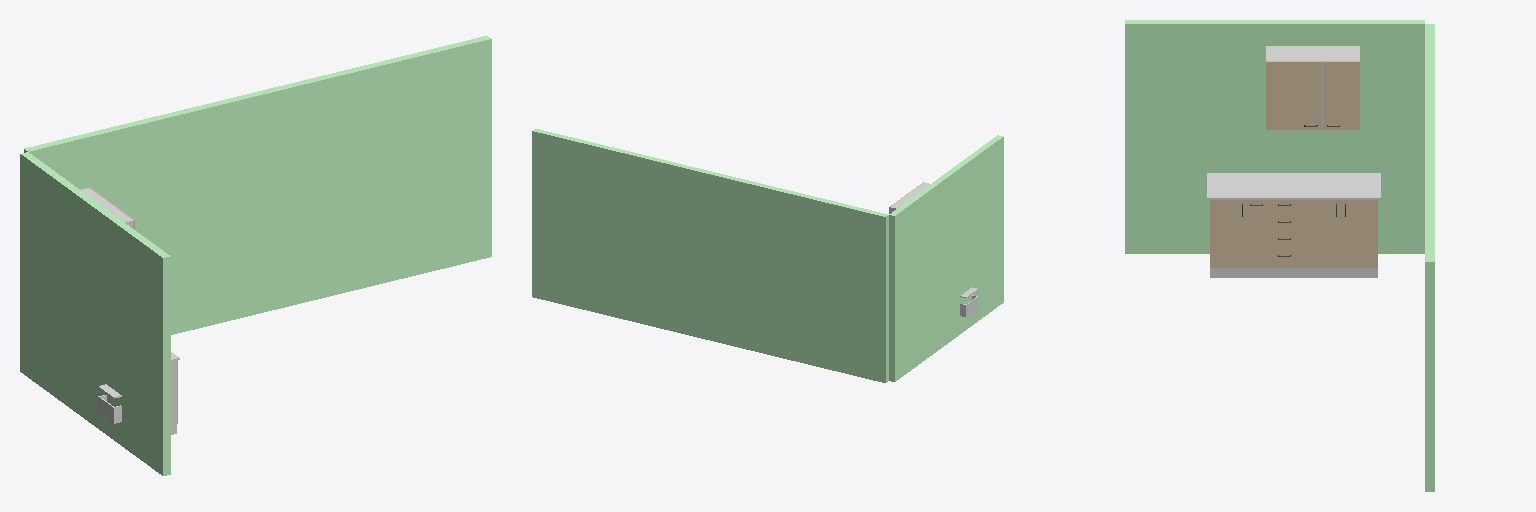
--- What the picture shows (computed from the rendered views, not written in the file) ---
3 views of the same robot in one strip: view 1: azimuth 30°, elevation 25°; view 2: azimuth 150°, elevation 25°; view 3: azimuth 270°, elevation 25° (orthographic).
Model clover_lab with 72 links and 71 joints (5 revolute, 7 prismatic, 59 fixed), rooted at world, posed all joints at 0.
Visible links, largest first — view 1: lab_left_wall, lab_back_wall; view 2: lab_left_wall, lab_back_wall; view 3: lab_back_wall, bc_frame_worktop, lab_left_wall, wall_cabinet_c1_door, base_cabinet_c4_door, wall_cabinet_c2_door, base_cabinet_c1_door, base_cabinet_c5_door, bc_frame_base_link, wc_frame_top_panel, base_cabinet_c2_pull_out_front_panel, base_cabinet_c3_r1_drawer_front_panel (+3 smaller).
Boxes of the visible links, x1,y1,x2,y2 form: lab_left_wall: (24,36,491,334); lab_back_wall: (20,152,170,475); lab_left_wall: (532,129,888,382); lab_back_wall: (889,135,1003,381); lab_back_wall: (1125,20,1424,253); bc_frame_worktop: (1207,173,1380,199); lab_left_wall: (1425,24,1434,491); wall_cabinet_c1_door: (1266,61,1321,129); base_cabinet_c4_door: (1303,200,1340,267); wall_cabinet_c2_door: (1323,61,1359,129); base_cabinet_c1_door: (1210,200,1246,267); base_cabinet_c5_door: (1341,200,1377,267); bc_frame_base_link: (1210,268,1377,277); wc_frame_top_panel: (1266,46,1359,61); base_cabinet_c2_pull_out_front_panel: (1247,200,1265,267); base_cabinet_c3_r1_drawer_front_panel: (1266,200,1302,216).
Bounding box of the posed robot: 6.21 × 3.3 × 2.7 m (x, y, z).
10 mesh visuals loaded from 1 distinct referenced files (1 binary STL).

The robot description file, URDF, robot "clover_lab":
<?xml version="1.0" ?>
<!-- =================================================================================== -->
<!-- |    This document was autogenerated by xacro from ../xacro/clover_lab.urdf.xacro | -->
<!-- |    EDITING THIS FILE BY HAND IS NOT RECOMMENDED                                 | -->
<!-- =================================================================================== -->
<robot name="clover_lab">
  <material name="White">
    <color rgba="0.9 0.9 0.9 1.0"/>
  </material>
  <material name="Glass">
    <color rgba="0.9 0.9 0.9 0.9"/>
  </material>
  <material name="Black">
    <color rgba="0.3 0.3 0.3 1.0"/>
  </material>
  <material name="Oak">
    <color rgba="0.89 0.81 0.69 1.0"/>
  </material>
  <material name="LightGreen">
    <color rgba="0.8 1 0.8 1.0"/>
  </material>
  <!-- Using meter, kg -->
  <!-- https://www.ikea.com.hk/en/products/kitchen-fixed-interiors/kitchen-fixed-interiors/maximera-art-80297276-->
  <link name="bc_frame_base_link">
    <visual>
      <origin xyz="0 0 0"/>
      <geometry>
        <box size="0.6 1.8 0.12"/>
      </geometry>
      <material name="White"/>
    </visual>
    <collision>
      <origin xyz="0 0 0"/>
      <geometry>
        <box size="0.6 1.8 0.12"/>
      </geometry>
    </collision>
    <inertial>
      <origin xyz="0 0 0"/>
      <mass value="20"/>
      <inertia ixx="5.424" ixy="0" ixz="0" iyy="0.624" iyz="0" izz="6.0"/>
    </inertial>
  </link>
  <link name="bc_frame_left_side_panel">
    <visual>
      <origin xyz="0 0 0"/>
      <geometry>
        <box size="0.6 0.016 0.8"/>
      </geometry>
      <material name="White"/>
    </visual>
    <collision>
      <origin xyz="0 0 0"/>
      <geometry>
        <box size="0.6 0.016 0.8"/>
      </geometry>
    </collision>
    <inertial>
      <origin xyz="0 0 0"/>
      <mass value="5"/>
      <inertia ixx="0.26677333333333336" ixy="0" ixz="0" iyy="0.4166666666666667" iyz="0" izz="0.15010666666666664"/>
    </inertial>
  </link>
  <joint name="bc_frame_left_side_panel_joint" type="fixed">
    <origin rpy="0 0 0" xyz="0 0.892 0.46"/>
    <parent link="bc_frame_base_link"/>
    <child link="bc_frame_left_side_panel"/>
  </joint>
  <link name="bc_frame_right_side_panel">
    <visual>
      <origin xyz="0 0 0"/>
      <geometry>
        <box size="0.6 0.016 0.8"/>
      </geometry>
      <material name="White"/>
    </visual>
    <collision>
      <origin xyz="0 0 0"/>
      <geometry>
        <box size="0.6 0.016 0.8"/>
      </geometry>
    </collision>
    <inertial>
      <origin xyz="0 0 0"/>
      <mass value="5"/>
      <inertia ixx="0.26677333333333336" ixy="0" ixz="0" iyy="0.4166666666666667" iyz="0" izz="0.15010666666666664"/>
    </inertial>
  </link>
  <joint name="bc_frame_right_side_panel_joint" type="fixed">
    <origin rpy="0 0 0" xyz="0 -0.892 0.46"/>
    <parent link="bc_frame_base_link"/>
    <child link="bc_frame_right_side_panel"/>
  </joint>
  <link name="bc_frame_back_panel">
    <visual>
      <origin xyz="0 0 0"/>
      <geometry>
        <box size="0.016 1.8 0.8"/>
      </geometry>
      <material name="White"/>
    </visual>
    <collision>
      <origin xyz="0 0 0"/>
      <geometry>
        <box size="0.016 1.8 0.8"/>
      </geometry>
    </collision>
    <inertial>
      <origin xyz="0 0 0"/>
      <mass value="20"/>
      <inertia ixx="6.466666666666668" ixy="0" ixz="0" iyy="1.0670933333333334" iyz="0" izz="5.400426666666667"/>
    </inertial>
  </link>
  <joint name="bc_frame_back_panel_joint" type="fixed">
    <origin rpy="0 0 0" xyz="-0.292 0 0.46"/>
    <parent link="bc_frame_base_link"/>
    <child link="bc_frame_back_panel"/>
  </joint>
  <link name="bc_frame_worktop">
    <visual>
      <origin xyz="0 0 0"/>
      <geometry>
        <box size="0.635 1.86 0.028"/>
      </geometry>
      <material name="White"/>
    </visual>
    <collision>
      <origin xyz="0 0 0"/>
      <geometry>
        <box size="0.635 1.86 0.028"/>
      </geometry>
    </collision>
    <inertial>
      <origin xyz="0 0 0"/>
      <mass value="20.65"/>
      <inertia ixx="5.954744133333334" ixy="0" ixz="0" iyy="0.6952321541666667" iyz="0" izz="6.647278020833333"/>
    </inertial>
  </link>
  <joint name="bc_frame_worktop_joint" type="fixed">
    <origin xyz="0 0 0.874"/>
    <parent link="bc_frame_base_link"/>
    <child link="bc_frame_worktop"/>
  </joint>
  <link name="bc_frame_c1_v_shelf">
    <visual>
      <origin xyz="0 0 0"/>
      <geometry>
        <box size="0.6 0.04 0.8"/>
      </geometry>
      <material name="White"/>
    </visual>
    <collision>
      <origin xyz="0 0 0"/>
      <geometry>
        <box size="0.6 0.04 0.8"/>
      </geometry>
    </collision>
    <inertial>
      <origin xyz="0 0 0"/>
      <mass value="10"/>
      <inertia ixx="0.5346666666666668" ixy="0" ixz="0" iyy="0.8333333333333334" iyz="0" izz="0.3013333333333333"/>
    </inertial>
  </link>
  <joint name="bc_frame_c1_v_shelf_joint" type="fixed">
    <origin xyz="0 -0.5 0.46"/>
    <parent link="bc_frame_base_link"/>
    <child link="bc_frame_c1_v_shelf"/>
  </joint>
  <link name="bc_frame_c2_v_shelf">
    <visual>
      <origin xyz="0 0 0"/>
      <geometry>
        <box size="0.6 0.04 0.8"/>
      </geometry>
      <material name="White"/>
    </visual>
    <collision>
      <origin xyz="0 0 0"/>
      <geometry>
        <box size="0.6 0.04 0.8"/>
      </geometry>
    </collision>
    <inertial>
      <origin xyz="0 0 0"/>
      <mass value="10"/>
      <inertia ixx="0.5346666666666668" ixy="0" ixz="0" iyy="0.8333333333333334" iyz="0" izz="0.3013333333333333"/>
    </inertial>
  </link>
  <joint name="bc_frame_c2_v_shelf_joint" type="fixed">
    <origin xyz="0 -0.29999999999999993 0.46"/>
    <parent link="bc_frame_base_link"/>
    <child link="bc_frame_c2_v_shelf"/>
  </joint>
  <link name="bc_frame_c3_v_shelf">
    <visual>
      <origin xyz="0 0 0"/>
      <geometry>
        <box size="0.6 0.04 0.8"/>
      </geometry>
      <material name="White"/>
    </visual>
    <collision>
      <origin xyz="0 0 0"/>
      <geometry>
        <box size="0.6 0.04 0.8"/>
      </geometry>
    </collision>
    <inertial>
      <origin xyz="0 0 0"/>
      <mass value="10"/>
      <inertia ixx="0.5346666666666668" ixy="0" ixz="0" iyy="0.8333333333333334" iyz="0" izz="0.3013333333333333"/>
    </inertial>
  </link>
  <joint name="bc_frame_c3_v_shelf_joint" type="fixed">
    <origin xyz="0 0.09999999999999998 0.46"/>
    <parent link="bc_frame_base_link"/>
    <child link="bc_frame_c3_v_shelf"/>
  </joint>
  <link name="bc_frame_h1_shelf">
    <visual>
      <origin xyz="0 0 0"/>
      <geometry>
        <box size="0.6 0.8 0.02"/>
      </geometry>
      <material name="White"/>
    </visual>
    <collision>
      <origin xyz="0 0 0"/>
      <geometry>
        <box size="0.6 0.8 0.02"/>
      </geometry>
    </collision>
    <inertial>
      <origin xyz="0 0 0"/>
      <mass value="10"/>
      <inertia ixx="0.5336666666666667" ixy="0" ixz="0" iyy="0.30033333333333334" iyz="0" izz="0.8333333333333334"/>
    </inertial>
  </link>
  <joint name="bc_frame_h1_shelf_joint" type="fixed">
    <origin xyz="0 0.5000000000000001 0.6100000000000001"/>
    <parent link="bc_frame_base_link"/>
    <child link="bc_frame_h1_shelf"/>
  </joint>
  <link name="bc_frame_h2_shelf">
    <visual>
      <origin xyz="0 0 0"/>
      <geometry>
        <box size="0.6 0.8 0.02"/>
      </geometry>
      <material name="White"/>
    </visual>
    <collision>
      <origin xyz="0 0 0"/>
      <geometry>
        <box size="0.6 0.8 0.02"/>
      </geometry>
    </collision>
    <inertial>
      <origin xyz="0 0 0"/>
      <mass value="10"/>
      <inertia ixx="0.5336666666666667" ixy="0" ixz="0" iyy="0.30033333333333334" iyz="0" izz="0.8333333333333334"/>
    </inertial>
  </link>
  <joint name="bc_frame_h2_shelf_joint" type="fixed">
    <origin xyz="0 0.5000000000000001 0.39000000000000007"/>
    <parent link="bc_frame_base_link"/>
    <child link="bc_frame_h2_shelf"/>
  </joint>
  <link name="base_cabinet_c1_door">
    <visual>
      <origin xyz="0 0.198 0"/>
      <geometry>
        <box size="0.016 0.396 0.796"/>
      </geometry>
      <material name="Oak"/>
    </visual>
    <collision>
      <origin xyz="0 0.198 0"/>
      <geometry>
        <box size="0.016 0.396 0.796"/>
      </geometry>
    </collision>
    <inertial>
      <origin xyz="0 0.198 0"/>
      <mass value="3.31"/>
      <inertia ixx="0.21802749333333335" ixy="0" ixz="0" iyy="0.1748430266666667" iyz="0" izz="0.04332569333333334"/>
    </inertial>
  </link>
  <joint name="base_cabinet_c1_door_joint" type="revolute">
    <parent link="bc_frame_base_link"/>
    <child link="base_cabinet_c1_door"/>
    <limit effort="10" lower="0" upper="1.5707963267948966" velocity="1"/>
    <dynamics damping="100" friction="0.1"/>
    <origin xyz="0.308 -0.9 0.46"/>
    <axis xyz="0 0 -1"/>
  </joint>
  <link name="base_cabinet_c1_door_handle_link">
    <visual>
      <origin rpy="0 0 0" xyz="0 0 0"/>
      <geometry>
        <mesh filename="package://clover_lab/meshes/handle.stl"/>
      </geometry>
      <material name="Black"/>
    </visual>
    <collision>
      <origin rpy="0 0 0" xyz="0 0 0"/>
      <geometry>
        <mesh filename="package://clover_lab/meshes/handle.stl"/>
      </geometry>
    </collision>
    <inertial>
      <mass value="0.09"/>
      <origin xyz="0 0 0"/>
      <inertia ixx="0.000211711" ixy="0" ixz="0" iyy="6.3764e-05" iyz="0" izz="0.000274426"/>
    </inertial>
  </link>
  <joint name="base_cabinet_c1_door_handle_joint" type="fixed">
    <parent link="base_cabinet_c1_door"/>
    <child link="base_cabinet_c1_door_handle_link"/>
    <origin rpy="1.5707963267948966 0 0" xyz="0.008 0.35 0.28"/>
  </joint>
  <link name="base_cabinet_c1_r1_drawer_front_panel">
    <visual>
      <origin xyz="0 0 0"/>
      <geometry>
        <box size="0.016 0.35 0.06"/>
      </geometry>
      <material name="White"/>
    </visual>
    <collision>
      <origin xyz="0 0 0"/>
      <geometry>
        <box size="0.016 0.35 0.06"/>
      </geometry>
    </collision>
    <inertial>
      <origin xyz="0 0 0"/>
      <mass value="5"/>
      <inertia ixx="0.05254166666666666" ixy="0" ixz="0" iyy="0.0016066666666666666" iyz="0" izz="0.05114833333333333"/>
    </inertial>
  </link>
  <joint name="base_cabinet_c1_r1_drawer_front_panel_joint" type="prismatic">
    <parent link="bc_frame_base_link"/>
    <child link="base_cabinet_c1_r1_drawer_front_panel"/>
    <origin xyz="0.02899999999999997 -0.7                                 0.5800000000000001"/>
    <limit effort="10" lower="0" upper="0.542" velocity="1"/>
    <axis xyz="1 0 0"/>
  </joint>
  <link name="base_cabinet_c1_r1_drawer_bottom_panel">
    <visual>
      <origin xyz="0 0 0"/>
      <geometry>
        <box size="0.542 0.35 0.016"/>
      </geometry>
      <material name="White"/>
    </visual>
    <collision>
      <origin xyz="0 0 0"/>
      <geometry>
        <box size="0.542 0.35 0.016"/>
      </geometry>
    </collision>
    <inertial>
      <origin xyz="0 0 0"/>
      <mass value="5"/>
      <inertia ixx="0.05114833333333333" ixy="0" ixz="0" iyy="0.12250833333333333" iyz="0" izz="0.17344333333333337"/>
    </inertial>
  </link>
  <joint name="base_cabinet_c1_r1_drawer_bottom_panel_joint" type="fixed">
    <parent link="base_cabinet_c1_r1_drawer_front_panel"/>
    <child link="base_cabinet_c1_r1_drawer_bottom_panel"/>
    <origin xyz="-0.263 0 -0.022"/>
  </joint>
  <link name="base_cabinet_c1_r2_drawer_front_panel">
    <visual>
      <origin xyz="0 0 0"/>
      <geometry>
        <box size="0.016 0.35 0.2"/>
      </geometry>
      <material name="White"/>
    </visual>
    <collision>
      <origin xyz="0 0 0"/>
      <geometry>
        <box size="0.016 0.35 0.2"/>
      </geometry>
    </collision>
    <inertial>
      <origin xyz="0 0 0"/>
      <mass value="5"/>
      <inertia ixx="0.06770833333333333" ixy="0" ixz="0" iyy="0.016773333333333338" iyz="0" izz="0.05114833333333333"/>
    </inertial>
  </link>
  <joint name="base_cabinet_c1_r2_drawer_front_panel_joint" type="prismatic">
    <parent link="bc_frame_base_link"/>
    <child link="base_cabinet_c1_r2_drawer_front_panel"/>
    <origin xyz="0.02899999999999997 -0.7                                 0.33999999999999997"/>
    <limit effort="10" lower="0" upper="0.542" velocity="1"/>
    <axis xyz="1 0 0"/>
  </joint>
  <link name="base_cabinet_c1_r2_drawer_bottom_panel">
    <visual>
      <origin xyz="0 0 0"/>
      <geometry>
        <box size="0.542 0.35 0.016"/>
      </geometry>
      <material name="White"/>
    </visual>
    <collision>
      <origin xyz="0 0 0"/>
      <geometry>
        <box size="0.542 0.35 0.016"/>
      </geometry>
    </collision>
    <inertial>
      <origin xyz="0 0 0"/>
      <mass value="5"/>
      <inertia ixx="0.05114833333333333" ixy="0" ixz="0" iyy="0.12250833333333333" iyz="0" izz="0.17344333333333337"/>
    </inertial>
  </link>
  <joint name="base_cabinet_c1_r2_drawer_bottom_panel_joint" type="fixed">
    <parent link="base_cabinet_c1_r2_drawer_front_panel"/>
    <child link="base_cabinet_c1_r2_drawer_bottom_panel"/>
    <origin xyz="-0.263 0 -0.092"/>
  </joint>
  <link name="base_cabinet_c1_r2_drawer_left_side_panel">
    <visual>
      <origin xyz="0 0 0"/>
      <geometry>
        <box size="0.542 0.016 0.2"/>
      </geometry>
      <material name="Glass"/>
    </visual>
    <collision>
      <origin xyz="0 0 0"/>
      <geometry>
        <box size="0.542 0.016 0.2"/>
      </geometry>
    </collision>
    <inertial>
      <origin xyz="0 0 0"/>
      <mass value="1"/>
      <inertia ixx="0.0033546666666666673" ixy="0" ixz="0" iyy="0.02781366666666667" iyz="0" izz="0.024501666666666668"/>
    </inertial>
  </link>
  <joint name="base_cabinet_c1_r2_drawer_left_side_panel_joint" type="fixed">
    <parent link="base_cabinet_c1_r2_drawer_bottom_panel"/>
    <child link="base_cabinet_c1_r2_drawer_left_side_panel"/>
    <origin xyz="0 0.16699999999999998 0.092"/>
  </joint>
  <link name="base_cabinet_c1_r2_drawer_right_side_panel">
    <visual>
      <origin xyz="0 0 0"/>
      <geometry>
        <box size="0.542 0.016 0.2"/>
      </geometry>
      <material name="Glass"/>
    </visual>
    <collision>
      <origin xyz="0 0 0"/>
      <geometry>
        <box size="0.542 0.016 0.2"/>
      </geometry>
    </collision>
    <inertial>
      <origin xyz="0 0 0"/>
      <mass value="1"/>
      <inertia ixx="0.0033546666666666673" ixy="0" ixz="0" iyy="0.02781366666666667" iyz="0" izz="0.024501666666666668"/>
    </inertial>
  </link>
  <joint name="base_cabinet_c1_r2_drawer_right_side_panel_joint" type="fixed">
    <parent link="base_cabinet_c1_r2_drawer_bottom_panel"/>
    <child link="base_cabinet_c1_r2_drawer_right_side_panel"/>
    <origin xyz="0 -0.16699999999999998 0.092"/>
  </joint>
  <link name="base_cabinet_c1_r2_drawer_back_panel">
    <visual>
      <origin xyz="0 0 0"/>
      <geometry>
        <box size="0.016 0.35 0.2"/>
      </geometry>
      <material name="White"/>
    </visual>
    <collision>
      <origin xyz="0 0 0"/>
      <geometry>
        <box size="0.016 0.35 0.2"/>
      </geometry>
    </collision>
    <inertial>
      <origin xyz="0 0 0"/>
      <mass value="2"/>
      <inertia ixx="0.02708333333333333" ixy="0" ixz="0" iyy="0.0067093333333333345" iyz="0" izz="0.020459333333333333"/>
    </inertial>
  </link>
  <joint name="base_cabinet_c1_r2_drawer_back_panel_joint" type="fixed">
    <parent link="base_cabinet_c1_r2_drawer_bottom_panel"/>
    <child link="base_cabinet_c1_r2_drawer_back_panel"/>
    <origin xyz="-0.263 0 0.092"/>
  </joint>
  <link name="base_cabinet_c2_pull_out_front_panel">
    <visual>
      <origin xyz="0 0 0"/>
      <geometry>
        <box size="0.016 0.196 0.796"/>
      </geometry>
      <material name="Oak"/>
    </visual>
    <collision>
      <origin xyz="0 0 0"/>
      <geometry>
        <box size="0.016 0.196 0.796"/>
      </geometry>
    </collision>
    <inertial>
      <origin xyz="0 0 0"/>
      <mass value="1.66"/>
      <inertia ixx="0.09296442666666667" ixy="0" ixz="0" iyy="0.08768562666666668" iyz="0" izz="0.005349626666666667"/>
    </inertial>
  </link>
  <joint name="base_cabinet_c2_pull_out_front_panel_joint" type="prismatic">
    <parent link="bc_frame_base_link"/>
    <child link="base_cabinet_c2_pull_out_front_panel"/>
    <limit effort="10" lower="0" upper="0.542" velocity="1"/>
    <dynamics damping="100" friction="0.1"/>
    <origin xyz="0.308                          -0.4                          0.46"/>
    <axis xyz="1 0 0"/>
  </joint>
  <link name="base_cabinet_c2_pull_out_handle_link">
    <visual>
      <origin rpy="0 0 0" xyz="0 0 0"/>
      <geometry>
        <mesh filename="package://clover_lab/meshes/handle.stl"/>
      </geometry>
      <material name="Black"/>
    </visual>
    <collision>
      <origin rpy="0 0 0" xyz="0 0 0"/>
      <geometry>
        <mesh filename="package://clover_lab/meshes/handle.stl"/>
      </geometry>
    </collision>
    <inertial>
      <mass value="0.09"/>
      <origin xyz="0 0 0"/>
      <inertia ixx="0.000211711" ixy="0" ixz="0" iyy="6.3764e-05" iyz="0" izz="0.000274426"/>
    </inertial>
  </link>
  <joint name="base_cabinet_c2_pull_out_handle_joint" type="fixed">
    <parent link="base_cabinet_c2_pull_out_front_panel"/>
    <child link="base_cabinet_c2_pull_out_handle_link"/>
    <origin rpy="0 0 0" xyz="0.008 0 0.34800000000000003"/>
  </joint>
  <link name="base_cabinet_c2_pull_out_drawer_1_bottom_panel">
    <visual>
      <origin xyz="0 0 0"/>
      <geometry>
        <box size="0.542 0.15 0.016"/>
      </geometry>
      <material name="White"/>
    </visual>
    <collision>
      <origin xyz="0 0 0"/>
      <geometry>
        <box size="0.542 0.15 0.016"/>
      </geometry>
    </collision>
    <inertial>
      <origin xyz="0 0 0"/>
      <mass value="5"/>
      <inertia ixx="0.009481666666666666" ixy="0" ixz="0" iyy="0.12250833333333333" iyz="0" izz="0.13177666666666668"/>
    </inertial>
  </link>
  <joint name="base_cabinet_c2_pull_out_drawer_1_bottom_panel_joint" type="fixed">
    <parent link="base_cabinet_c2_pull_out_front_panel"/>
    <child link="base_cabinet_c2_pull_out_drawer_1_bottom_panel"/>
    <origin xyz="-0.279 0                                 0.18050000000000002"/>
  </joint>
  <link name="base_cabinet_c2_pull_out_drawer_1_left_side_panel">
    <visual>
      <origin xyz="0 0 0"/>
      <geometry>
        <box size="0.542 0.016 0.135"/>
      </geometry>
      <material name="Glass"/>
    </visual>
    <collision>
      <origin xyz="0 0 0"/>
      <geometry>
        <box size="0.542 0.016 0.135"/>
      </geometry>
    </collision>
    <inertial>
      <origin xyz="0 0 0"/>
      <mass value="1"/>
      <inertia ixx="0.0015400833333333334" ixy="0" ixz="0" iyy="0.025999083333333336" iyz="0" izz="0.024501666666666668"/>
    </inertial>
  </link>
  <joint name="base_cabinet_c2_pull_out_drawer_1_left_side_panel_joint" type="fixed">
    <parent link="base_cabinet_c2_pull_out_drawer_1_bottom_panel"/>
    <child link="base_cabinet_c2_pull_out_drawer_1_left_side_panel"/>
    <origin xyz="0 0.067 0.059500000000000004"/>
  </joint>
  <link name="base_cabinet_c2_pull_out_drawer_1_right_side_panel">
    <visual>
      <origin xyz="0 0 0"/>
      <geometry>
        <box size="0.542 0.016 0.135"/>
      </geometry>
      <material name="Glass"/>
    </visual>
    <collision>
      <origin xyz="0 0 0"/>
      <geometry>
        <box size="0.542 0.016 0.135"/>
      </geometry>
    </collision>
    <inertial>
      <origin xyz="0 0 0"/>
      <mass value="1"/>
      <inertia ixx="0.0015400833333333334" ixy="0" ixz="0" iyy="0.025999083333333336" iyz="0" izz="0.024501666666666668"/>
    </inertial>
  </link>
  <joint name="base_cabinet_c2_pull_out_drawer_1_right_side_panel_joint" type="fixed">
    <parent link="base_cabinet_c2_pull_out_drawer_1_bottom_panel"/>
    <child link="base_cabinet_c2_pull_out_drawer_1_right_side_panel"/>
    <origin xyz="0 -0.067 0.059500000000000004"/>
  </joint>
  <link name="base_cabinet_c2_pull_out_drawer_1_back_panel">
    <visual>
      <origin xyz="0 0 0"/>
      <geometry>
        <box size="0.016 0.15 0.135"/>
      </geometry>
      <material name="White"/>
    </visual>
    <collision>
      <origin xyz="0 0 0"/>
      <geometry>
        <box size="0.016 0.15 0.135"/>
      </geometry>
    </collision>
    <inertial>
      <origin xyz="0 0 0"/>
      <mass value="2"/>
      <inertia ixx="0.006787499999999999" ixy="0" ixz="0" iyy="0.003080166666666667" iyz="0" izz="0.0037926666666666664"/>
    </inertial>
  </link>
  <joint name="base_cabinet_c2_pull_out_drawer_1_back_panel_joint" type="fixed">
    <parent link="base_cabinet_c2_pull_out_drawer_1_bottom_panel"/>
    <child link="base_cabinet_c2_pull_out_drawer_1_back_panel"/>
    <origin xyz="-0.263 0 0.059500000000000004"/>
  </joint>
  <link name="base_cabinet_c2_pull_out_drawer_2_bottom_panel">
    <visual>
      <origin xyz="0 0 0"/>
      <geometry>
        <box size="0.542 0.15 0.016"/>
      </geometry>
      <material name="White"/>
    </visual>
    <collision>
      <origin xyz="0 0 0"/>
      <geometry>
        <box size="0.542 0.15 0.016"/>
      </geometry>
    </collision>
    <inertial>
      <origin xyz="0 0 0"/>
      <mass value="5"/>
      <inertia ixx="0.009481666666666666" ixy="0" ixz="0" iyy="0.12250833333333333" iyz="0" izz="0.13177666666666668"/>
    </inertial>
  </link>
  <joint name="base_cabinet_c2_pull_out_drawer_2_bottom_panel_joint" type="fixed">
    <parent link="base_cabinet_c2_pull_out_front_panel"/>
    <child link="base_cabinet_c2_pull_out_drawer_2_bottom_panel"/>
    <origin xyz="-0.279 0                                 -0.23949999999999994"/>
  </joint>
  <link name="base_cabinet_c2_pull_out_drawer_2_left_side_panel">
    <visual>
      <origin xyz="0 0 0"/>
      <geometry>
        <box size="0.542 0.016 0.2"/>
      </geometry>
      <material name="Glass"/>
    </visual>
    <collision>
      <origin xyz="0 0 0"/>
      <geometry>
        <box size="0.542 0.016 0.2"/>
      </geometry>
    </collision>
    <inertial>
      <origin xyz="0 0 0"/>
      <mass value="1"/>
      <inertia ixx="0.0033546666666666673" ixy="0" ixz="0" iyy="0.02781366666666667" iyz="0" izz="0.024501666666666668"/>
    </inertial>
  </link>
  <joint name="base_cabinet_c2_pull_out_drawer_2_left_side_panel_joint" type="fixed">
    <parent link="base_cabinet_c2_pull_out_drawer_2_bottom_panel"/>
    <child link="base_cabinet_c2_pull_out_drawer_2_left_side_panel"/>
    <origin xyz="0 0.067 0.092"/>
  </joint>
  <link name="base_cabinet_c2_pull_out_drawer_2_right_side_panel">
    <visual>
      <origin xyz="0 0 0"/>
      <geometry>
        <box size="0.542 0.016 0.2"/>
      </geometry>
      <material name="Glass"/>
    </visual>
    <collision>
      <origin xyz="0 0 0"/>
      <geometry>
        <box size="0.542 0.016 0.2"/>
      </geometry>
    </collision>
    <inertial>
      <origin xyz="0 0 0"/>
      <mass value="1"/>
      <inertia ixx="0.0033546666666666673" ixy="0" ixz="0" iyy="0.02781366666666667" iyz="0" izz="0.024501666666666668"/>
    </inertial>
  </link>
  <joint name="base_cabinet_c2_pull_out_drawer_2_right_side_panel_joint" type="fixed">
    <parent link="base_cabinet_c2_pull_out_drawer_2_bottom_panel"/>
    <child link="base_cabinet_c2_pull_out_drawer_2_right_side_panel"/>
    <origin xyz="0 -0.067 0.092"/>
  </joint>
  <link name="base_cabinet_c2_pull_out_drawer_2_back_panel">
    <visual>
      <origin xyz="0 0 0"/>
      <geometry>
        <box size="0.016 0.15 0.2"/>
      </geometry>
      <material name="White"/>
    </visual>
    <collision>
      <origin xyz="0 0 0"/>
      <geometry>
        <box size="0.016 0.15 0.2"/>
      </geometry>
    </collision>
    <inertial>
      <origin xyz="0 0 0"/>
      <mass value="2"/>
      <inertia ixx="0.010416666666666666" ixy="0" ixz="0" iyy="0.0067093333333333345" iyz="0" izz="0.0037926666666666664"/>
    </inertial>
  </link>
  <joint name="base_cabinet_c2_pull_out_drawer_2_back_panel_joint" type="fixed">
    <parent link="base_cabinet_c2_pull_out_drawer_2_bottom_panel"/>
    <child link="base_cabinet_c2_pull_out_drawer_2_back_panel"/>
    <origin xyz="-0.263 0 0.092"/>
  </joint>
  <link name="base_cabinet_c3_r1_drawer_front_panel">
    <visual>
      <origin xyz="0 0 0"/>
      <geometry>
        <box size="0.016 0.396 0.196"/>
      </geometry>
      <material name="Oak"/>
    </visual>
    <collision>
      <origin xyz="0 0 0"/>
      <geometry>
        <box size="0.016 0.396 0.196"/>
      </geometry>
    </collision>
    <inertial>
      <origin xyz="0 0 0"/>
      <mass value="0.75"/>
      <inertia ixx="0.012202" ixy="0" ixz="0" iyy="0.0024170000000000003" iyz="0" izz="0.009817000000000001"/>
    </inertial>
  </link>
  <joint name="base_cabinet_c3_r1_drawer_front_panel_joint" type="prismatic">
    <parent link="bc_frame_base_link"/>
    <child link="base_cabinet_c3_r1_drawer_front_panel"/>
    <limit effort="10" lower="0" upper="0.542" velocity="1"/>
    <dynamics damping="100" friction="0.1"/>
    <origin xyz="0.308                        -0.09999999999999998                        0.76"/>
    <axis xyz="1 0 0"/>
  </joint>
  <link name="base_cabinet_c3_r1_drawer_handle_link">
    <visual>
      <origin rpy="0 0 0" xyz="0 0 0"/>
      <geometry>
        <mesh filename="package://clover_lab/meshes/handle.stl"/>
      </geometry>
      <material name="Black"/>
    </visual>
    <collision>
      <origin rpy="0 0 0" xyz="0 0 0"/>
      <geometry>
        <mesh filename="package://clover_lab/meshes/handle.stl"/>
      </geometry>
    </collision>
    <inertial>
      <mass value="0.09"/>
      <origin xyz="0 0 0"/>
      <inertia ixx="0.000211711" ixy="0" ixz="0" iyy="6.3764e-05" iyz="0" izz="0.000274426"/>
    </inertial>
  </link>
  <joint name="base_cabinet_c3_r1_drawer_handle_joint" type="fixed">
    <parent link="base_cabinet_c3_r1_drawer_front_panel"/>
    <child link="base_cabinet_c3_r1_drawer_handle_link"/>
    <origin rpy="0 0 0" xyz="0.008 0 0.048"/>
  </joint>
  <link name="base_cabinet_c3_r1_drawer_interior_bottom_panel">
    <visual>
      <origin xyz="0 0 0"/>
      <geometry>
        <box size="0.542 0.35 0.016"/>
      </geometry>
      <material name="White"/>
    </visual>
    <collision>
      <origin xyz="0 0 0"/>
      <geometry>
        <box size="0.542 0.35 0.016"/>
      </geometry>
    </collision>
    <inertial>
      <origin xyz="0 0 0"/>
      <mass value="5"/>
      <inertia ixx="0.05114833333333333" ixy="0" ixz="0" iyy="0.12250833333333333" iyz="0" izz="0.17344333333333337"/>
    </inertial>
  </link>
  <joint name="base_cabinet_c3_r1_drawer_interior_bottom_panel_joint" type="fixed">
    <parent link="base_cabinet_c3_r1_drawer_front_panel"/>
    <child link="base_cabinet_c3_r1_drawer_interior_bottom_panel"/>
    <origin xyz="-0.279 0                                 -0.064"/>
  </joint>
  <link name="base_cabinet_c3_r1_drawer_interior_left_side_panel">
    <visual>
      <origin xyz="0 0 0"/>
      <geometry>
        <box size="0.542 0.016 0.144"/>
      </geometry>
      <material name="Glass"/>
    </visual>
    <collision>
      <origin xyz="0 0 0"/>
      <geometry>
        <box size="0.542 0.016 0.144"/>
      </geometry>
    </collision>
    <inertial>
      <origin xyz="0 0 0"/>
      <mass value="1"/>
      <inertia ixx="0.001749333333333333" ixy="0" ixz="0" iyy="0.026208333333333333" iyz="0" izz="0.024501666666666668"/>
    </inertial>
  </link>
  <joint name="base_cabinet_c3_r1_drawer_interior_left_side_panel_joint" type="fixed">
    <parent link="base_cabinet_c3_r1_drawer_interior_bottom_panel"/>
    <child link="base_cabinet_c3_r1_drawer_interior_left_side_panel"/>
    <origin xyz="0 0.16699999999999998 0.064"/>
  </joint>
  <link name="base_cabinet_c3_r1_drawer_interior_right_side_panel">
    <visual>
      <origin xyz="0 0 0"/>
      <geometry>
        <box size="0.542 0.016 0.144"/>
      </geometry>
      <material name="Glass"/>
    </visual>
    <collision>
      <origin xyz="0 0 0"/>
      <geometry>
        <box size="0.542 0.016 0.144"/>
      </geometry>
    </collision>
    <inertial>
      <origin xyz="0 0 0"/>
      <mass value="1"/>
      <inertia ixx="0.001749333333333333" ixy="0" ixz="0" iyy="0.026208333333333333" iyz="0" izz="0.024501666666666668"/>
    </inertial>
  </link>
  <joint name="base_cabinet_c3_r1_drawer_interior_right_side_panel_joint" type="fixed">
    <parent link="base_cabinet_c3_r1_drawer_interior_bottom_panel"/>
    <child link="base_cabinet_c3_r1_drawer_interior_right_side_panel"/>
    <origin xyz="0 -0.16699999999999998 0.064"/>
  </joint>
  <link name="base_cabinet_c3_r1_drawer_interior_back_panel">
    <visual>
      <origin xyz="0 0 0"/>
      <geometry>
        <box size="0.016 0.35 0.144"/>
      </geometry>
      <material name="White"/>
    </visual>
    <collision>
      <origin xyz="0 0 0"/>
      <geometry>
        <box size="0.016 0.35 0.144"/>
      </geometry>
    </collision>
    <inertial>
      <origin xyz="0 0 0"/>
      <mass value="2"/>
      <inertia ixx="0.023872666666666664" ixy="0" ixz="0" iyy="0.003498666666666666" iyz="0" izz="0.020459333333333333"/>
    </inertial>
  </link>
  <joint name="base_cabinet_c3_r1_drawer_interior_back_panel_joint" type="fixed">
    <parent link="base_cabinet_c3_r1_drawer_interior_bottom_panel"/>
    <child link="base_cabinet_c3_r1_drawer_interior_back_panel"/>
    <origin xyz="-0.263 0 0.064"/>
  </joint>
  <link name="base_cabinet_c3_r2_drawer_front_panel">
    <visual>
      <origin xyz="0 0 0"/>
      <geometry>
        <box size="0.016 0.396 0.196"/>
      </geometry>
      <material name="Oak"/>
    </visual>
    <collision>
      <origin xyz="0 0 0"/>
      <geometry>
        <box size="0.016 0.396 0.196"/>
      </geometry>
    </collision>
    <inertial>
      <origin xyz="0 0 0"/>
      <mass value="0.75"/>
      <inertia ixx="0.012202" ixy="0" ixz="0" iyy="0.0024170000000000003" iyz="0" izz="0.009817000000000001"/>
    </inertial>
  </link>
  <joint name="base_cabinet_c3_r2_drawer_front_panel_joint" type="prismatic">
    <parent link="bc_frame_base_link"/>
    <child link="base_cabinet_c3_r2_drawer_front_panel"/>
    <limit effort="10" lower="0" upper="0.542" velocity="1"/>
    <dynamics damping="100" friction="0.1"/>
    <origin xyz="0.308                        -0.09999999999999998                        0.56"/>
    <axis xyz="1 0 0"/>
  </joint>
  <link name="base_cabinet_c3_r2_drawer_handle_link">
    <visual>
      <origin rpy="0 0 0" xyz="0 0 0"/>
      <geometry>
        <mesh filename="package://clover_lab/meshes/handle.stl"/>
      </geometry>
      <material name="Black"/>
    </visual>
    <collision>
      <origin rpy="0 0 0" xyz="0 0 0"/>
      <geometry>
        <mesh filename="package://clover_lab/meshes/handle.stl"/>
      </geometry>
    </collision>
    <inertial>
      <mass value="0.09"/>
      <origin xyz="0 0 0"/>
      <inertia ixx="0.000211711" ixy="0" ixz="0" iyy="6.3764e-05" iyz="0" izz="0.000274426"/>
    </inertial>
  </link>
  <joint name="base_cabinet_c3_r2_drawer_handle_joint" type="fixed">
    <parent link="base_cabinet_c3_r2_drawer_front_panel"/>
    <child link="base_cabinet_c3_r2_drawer_handle_link"/>
    <origin rpy="0 0 0" xyz="0.008 0 0.048"/>
  </joint>
  <link name="base_cabinet_c3_r2_drawer_interior_bottom_panel">
    <visual>
      <origin xyz="0 0 0"/>
      <geometry>
        <box size="0.542 0.35 0.016"/>
      </geometry>
      <material name="White"/>
    </visual>
    <collision>
      <origin xyz="0 0 0"/>
      <geometry>
        <box size="0.542 0.35 0.016"/>
      </geometry>
    </collision>
    <inertial>
      <origin xyz="0 0 0"/>
      <mass value="5"/>
      <inertia ixx="0.05114833333333333" ixy="0" ixz="0" iyy="0.12250833333333333" iyz="0" izz="0.17344333333333337"/>
    </inertial>
  </link>
  <joint name="base_cabinet_c3_r2_drawer_interior_bottom_panel_joint" type="fixed">
    <parent link="base_cabinet_c3_r2_drawer_front_panel"/>
    <child link="base_cabinet_c3_r2_drawer_interior_bottom_panel"/>
    <origin xyz="-0.279 0                                 -0.064"/>
  </joint>
  <link name="base_cabinet_c3_r2_drawer_interior_left_side_panel">
    <visual>
      <origin xyz="0 0 0"/>
      <geometry>
        <box size="0.542 0.016 0.144"/>
      </geometry>
      <material name="Glass"/>
    </visual>
    <collision>
      <origin xyz="0 0 0"/>
      <geometry>
        <box size="0.542 0.016 0.144"/>
      </geometry>
    </collision>
    <inertial>
      <origin xyz="0 0 0"/>
      <mass value="1"/>
      <inertia ixx="0.001749333333333333" ixy="0" ixz="0" iyy="0.026208333333333333" iyz="0" izz="0.024501666666666668"/>
    </inertial>
  </link>
  <joint name="base_cabinet_c3_r2_drawer_interior_left_side_panel_joint" type="fixed">
    <parent link="base_cabinet_c3_r2_drawer_interior_bottom_panel"/>
    <child link="base_cabinet_c3_r2_drawer_interior_left_side_panel"/>
    <origin xyz="0 0.16699999999999998 0.064"/>
  </joint>
  <link name="base_cabinet_c3_r2_drawer_interior_right_side_panel">
    <visual>
      <origin xyz="0 0 0"/>
      <geometry>
        <box size="0.542 0.016 0.144"/>
      </geometry>
      <material name="Glass"/>
    </visual>
    <collision>
      <origin xyz="0 0 0"/>
      <geometry>
        <box size="0.542 0.016 0.144"/>
      </geometry>
    </collision>
    <inertial>
      <origin xyz="0 0 0"/>
      <mass value="1"/>
      <inertia ixx="0.001749333333333333" ixy="0" ixz="0" iyy="0.026208333333333333" iyz="0" izz="0.024501666666666668"/>
    </inertial>
  </link>
  <joint name="base_cabinet_c3_r2_drawer_interior_right_side_panel_joint" type="fixed">
    <parent link="base_cabinet_c3_r2_drawer_interior_bottom_panel"/>
    <child link="base_cabinet_c3_r2_drawer_interior_right_side_panel"/>
    <origin xyz="0 -0.16699999999999998 0.064"/>
  </joint>
  <link name="base_cabinet_c3_r2_drawer_interior_back_panel">
    <visual>
      <origin xyz="0 0 0"/>
      <geometry>
        <box size="0.016 0.35 0.144"/>
      </geometry>
      <material name="White"/>
    </visual>
    <collision>
      <origin xyz="0 0 0"/>
      <geometry>
        <box size="0.016 0.35 0.144"/>
      </geometry>
    </collision>
    <inertial>
      <origin xyz="0 0 0"/>
      <mass value="2"/>
      <inertia ixx="0.023872666666666664" ixy="0" ixz="0" iyy="0.003498666666666666" iyz="0" izz="0.020459333333333333"/>
    </inertial>
  </link>
  <joint name="base_cabinet_c3_r2_drawer_interior_back_panel_joint" type="fixed">
    <parent link="base_cabinet_c3_r2_drawer_interior_bottom_panel"/>
    <child link="base_cabinet_c3_r2_drawer_interior_back_panel"/>
    <origin xyz="-0.263 0 0.064"/>
  </joint>
  <link name="base_cabinet_c3_r3_drawer_front_panel">
    <visual>
      <origin xyz="0 0 0"/>
      <geometry>
        <box size="0.016 0.396 0.196"/>
      </geometry>
      <material name="Oak"/>
    </visual>
    <collision>
      <origin xyz="0 0 0"/>
      <geometry>
        <box size="0.016 0.396 0.196"/>
      </geometry>
    </collision>
    <inertial>
      <origin xyz="0 0 0"/>
      <mass value="0.75"/>
      <inertia ixx="0.012202" ixy="0" ixz="0" iyy="0.0024170000000000003" iyz="0" izz="0.009817000000000001"/>
    </inertial>
  </link>
  <joint name="base_cabinet_c3_r3_drawer_front_panel_joint" type="prismatic">
    <parent link="bc_frame_base_link"/>
    <child link="base_cabinet_c3_r3_drawer_front_panel"/>
    <limit effort="10" lower="0" upper="0.542" velocity="1"/>
    <dynamics damping="100" friction="0.1"/>
    <origin xyz="0.308                        -0.09999999999999998                        0.36000000000000004"/>
    <axis xyz="1 0 0"/>
  </joint>
  <link name="base_cabinet_c3_r3_drawer_handle_link">
    <visual>
      <origin rpy="0 0 0" xyz="0 0 0"/>
      <geometry>
        <mesh filename="package://clover_lab/meshes/handle.stl"/>
      </geometry>
      <material name="Black"/>
    </visual>
    <collision>
      <origin rpy="0 0 0" xyz="0 0 0"/>
      <geometry>
        <mesh filename="package://clover_lab/meshes/handle.stl"/>
      </geometry>
    </collision>
    <inertial>
      <mass value="0.09"/>
      <origin xyz="0 0 0"/>
      <inertia ixx="0.000211711" ixy="0" ixz="0" iyy="6.3764e-05" iyz="0" izz="0.000274426"/>
    </inertial>
  </link>
  <joint name="base_cabinet_c3_r3_drawer_handle_joint" type="fixed">
    <parent link="base_cabinet_c3_r3_drawer_front_panel"/>
    <child link="base_cabinet_c3_r3_drawer_handle_link"/>
    <origin rpy="0 0 0" xyz="0.008 0 0.048"/>
  </joint>
  <link name="base_cabinet_c3_r3_drawer_interior_bottom_panel">
    <visual>
      <origin xyz="0 0 0"/>
      <geometry>
        <box size="0.542 0.35 0.016"/>
      </geometry>
      <material name="White"/>
    </visual>
    <collision>
      <origin xyz="0 0 0"/>
      <geometry>
        <box size="0.542 0.35 0.016"/>
      </geometry>
    </collision>
    <inertial>
      <origin xyz="0 0 0"/>
      <mass value="5"/>
      <inertia ixx="0.05114833333333333" ixy="0" ixz="0" iyy="0.12250833333333333" iyz="0" izz="0.17344333333333337"/>
    </inertial>
  </link>
  <joint name="base_cabinet_c3_r3_drawer_interior_bottom_panel_joint" type="fixed">
    <parent link="base_cabinet_c3_r3_drawer_front_panel"/>
    <child link="base_cabinet_c3_r3_drawer_interior_bottom_panel"/>
    <origin xyz="-0.279 0                                 -0.064"/>
  </joint>
  <link name="base_cabinet_c3_r3_drawer_interior_left_side_panel">
    <visual>
      <origin xyz="0 0 0"/>
      <geometry>
        <box size="0.542 0.016 0.144"/>
      </geometry>
      <material name="Glass"/>
    </visual>
    <collision>
      <origin xyz="0 0 0"/>
      <geometry>
        <box size="0.542 0.016 0.144"/>
      </geometry>
    </collision>
    <inertial>
      <origin xyz="0 0 0"/>
      <mass value="1"/>
      <inertia ixx="0.001749333333333333" ixy="0" ixz="0" iyy="0.026208333333333333" iyz="0" izz="0.024501666666666668"/>
    </inertial>
  </link>
  <joint name="base_cabinet_c3_r3_drawer_interior_left_side_panel_joint" type="fixed">
    <parent link="base_cabinet_c3_r3_drawer_interior_bottom_panel"/>
    <child link="base_cabinet_c3_r3_drawer_interior_left_side_panel"/>
    <origin xyz="0 0.16699999999999998 0.064"/>
  </joint>
  <link name="base_cabinet_c3_r3_drawer_interior_right_side_panel">
    <visual>
      <origin xyz="0 0 0"/>
      <geometry>
        <box size="0.542 0.016 0.144"/>
      </geometry>
      <material name="Glass"/>
    </visual>
    <collision>
      <origin xyz="0 0 0"/>
      <geometry>
        <box size="0.542 0.016 0.144"/>
      </geometry>
    </collision>
    <inertial>
      <origin xyz="0 0 0"/>
      <mass value="1"/>
      <inertia ixx="0.001749333333333333" ixy="0" ixz="0" iyy="0.026208333333333333" iyz="0" izz="0.024501666666666668"/>
    </inertial>
  </link>
  <joint name="base_cabinet_c3_r3_drawer_interior_right_side_panel_joint" type="fixed">
    <parent link="base_cabinet_c3_r3_drawer_interior_bottom_panel"/>
    <child link="base_cabinet_c3_r3_drawer_interior_right_side_panel"/>
    <origin xyz="0 -0.16699999999999998 0.064"/>
  </joint>
  <link name="base_cabinet_c3_r3_drawer_interior_back_panel">
    <visual>
      <origin xyz="0 0 0"/>
      <geometry>
        <box size="0.016 0.35 0.144"/>
      </geometry>
      <material name="White"/>
    </visual>
    <collision>
      <origin xyz="0 0 0"/>
      <geometry>
        <box size="0.016 0.35 0.144"/>
      </geometry>
    </collision>
    <inertial>
      <origin xyz="0 0 0"/>
      <mass value="2"/>
      <inertia ixx="0.023872666666666664" ixy="0" ixz="0" iyy="0.003498666666666666" iyz="0" izz="0.020459333333333333"/>
    </inertial>
  </link>
  <joint name="base_cabinet_c3_r3_drawer_interior_back_panel_joint" type="fixed">
    <parent link="base_cabinet_c3_r3_drawer_interior_bottom_panel"/>
    <child link="base_cabinet_c3_r3_drawer_interior_back_panel"/>
    <origin xyz="-0.263 0 0.064"/>
  </joint>
  <link name="base_cabinet_c3_r4_drawer_front_panel">
    <visual>
      <origin xyz="0 0 0"/>
      <geometry>
        <box size="0.016 0.396 0.196"/>
      </geometry>
      <material name="Oak"/>
    </visual>
    <collision>
      <origin xyz="0 0 0"/>
      <geometry>
        <box size="0.016 0.396 0.196"/>
      </geometry>
    </collision>
    <inertial>
      <origin xyz="0 0 0"/>
      <mass value="0.75"/>
      <inertia ixx="0.012202" ixy="0" ixz="0" iyy="0.0024170000000000003" iyz="0" izz="0.009817000000000001"/>
    </inertial>
  </link>
  <joint name="base_cabinet_c3_r4_drawer_front_panel_joint" type="prismatic">
    <parent link="bc_frame_base_link"/>
    <child link="base_cabinet_c3_r4_drawer_front_panel"/>
    <limit effort="10" lower="0" upper="0.542" velocity="1"/>
    <dynamics damping="100" friction="0.1"/>
    <origin xyz="0.308                        -0.09999999999999998                        0.15999999999999992"/>
    <axis xyz="1 0 0"/>
  </joint>
  <link name="base_cabinet_c3_r4_drawer_handle_link">
    <visual>
      <origin rpy="0 0 0" xyz="0 0 0"/>
      <geometry>
        <mesh filename="package://clover_lab/meshes/handle.stl"/>
      </geometry>
      <material name="Black"/>
    </visual>
    <collision>
      <origin rpy="0 0 0" xyz="0 0 0"/>
      <geometry>
        <mesh filename="package://clover_lab/meshes/handle.stl"/>
      </geometry>
    </collision>
    <inertial>
      <mass value="0.09"/>
      <origin xyz="0 0 0"/>
      <inertia ixx="0.000211711" ixy="0" ixz="0" iyy="6.3764e-05" iyz="0" izz="0.000274426"/>
    </inertial>
  </link>
  <joint name="base_cabinet_c3_r4_drawer_handle_joint" type="fixed">
    <parent link="base_cabinet_c3_r4_drawer_front_panel"/>
    <child link="base_cabinet_c3_r4_drawer_handle_link"/>
    <origin rpy="0 0 0" xyz="0.008 0 0.048"/>
  </joint>
  <link name="base_cabinet_c3_r4_drawer_interior_bottom_panel">
    <visual>
      <origin xyz="0 0 0"/>
      <geometry>
        <box size="0.542 0.35 0.016"/>
      </geometry>
      <material name="White"/>
    </visual>
    <collision>
      <origin xyz="0 0 0"/>
      <geometry>
        <box size="0.542 0.35 0.016"/>
      </geometry>
    </collision>
    <inertial>
      <origin xyz="0 0 0"/>
      <mass value="5"/>
      <inertia ixx="0.05114833333333333" ixy="0" ixz="0" iyy="0.12250833333333333" iyz="0" izz="0.17344333333333337"/>
    </inertial>
  </link>
  <joint name="base_cabinet_c3_r4_drawer_interior_bottom_panel_joint" type="fixed">
    <parent link="base_cabinet_c3_r4_drawer_front_panel"/>
    <child link="base_cabinet_c3_r4_drawer_interior_bottom_panel"/>
    <origin xyz="-0.279 0                                 -0.064"/>
  </joint>
  <link name="base_cabinet_c3_r4_drawer_interior_left_side_panel">
    <visual>
      <origin xyz="0 0 0"/>
      <geometry>
        <box size="0.542 0.016 0.144"/>
      </geometry>
      <material name="Glass"/>
    </visual>
    <collision>
      <origin xyz="0 0 0"/>
      <geometry>
        <box size="0.542 0.016 0.144"/>
      </geometry>
    </collision>
    <inertial>
      <origin xyz="0 0 0"/>
      <mass value="1"/>
      <inertia ixx="0.001749333333333333" ixy="0" ixz="0" iyy="0.026208333333333333" iyz="0" izz="0.024501666666666668"/>
    </inertial>
  </link>
  <joint name="base_cabinet_c3_r4_drawer_interior_left_side_panel_joint" type="fixed">
    <parent link="base_cabinet_c3_r4_drawer_interior_bottom_panel"/>
    <child link="base_cabinet_c3_r4_drawer_interior_left_side_panel"/>
    <origin xyz="0 0.16699999999999998 0.064"/>
  </joint>
  <link name="base_cabinet_c3_r4_drawer_interior_right_side_panel">
    <visual>
      <origin xyz="0 0 0"/>
      <geometry>
        <box size="0.542 0.016 0.144"/>
      </geometry>
      <material name="Glass"/>
    </visual>
    <collision>
      <origin xyz="0 0 0"/>
      <geometry>
        <box size="0.542 0.016 0.144"/>
      </geometry>
    </collision>
    <inertial>
      <origin xyz="0 0 0"/>
      <mass value="1"/>
      <inertia ixx="0.001749333333333333" ixy="0" ixz="0" iyy="0.026208333333333333" iyz="0" izz="0.024501666666666668"/>
    </inertial>
  </link>
  <joint name="base_cabinet_c3_r4_drawer_interior_right_side_panel_joint" type="fixed">
    <parent link="base_cabinet_c3_r4_drawer_interior_bottom_panel"/>
    <child link="base_cabinet_c3_r4_drawer_interior_right_side_panel"/>
    <origin xyz="0 -0.16699999999999998 0.064"/>
  </joint>
  <link name="base_cabinet_c3_r4_drawer_interior_back_panel">
    <visual>
      <origin xyz="0 0 0"/>
      <geometry>
        <box size="0.016 0.35 0.144"/>
      </geometry>
      <material name="White"/>
    </visual>
    <collision>
      <origin xyz="0 0 0"/>
      <geometry>
        <box size="0.016 0.35 0.144"/>
      </geometry>
    </collision>
    <inertial>
      <origin xyz="0 0 0"/>
      <mass value="2"/>
      <inertia ixx="0.023872666666666664" ixy="0" ixz="0" iyy="0.003498666666666666" iyz="0" izz="0.020459333333333333"/>
    </inertial>
  </link>
  <joint name="base_cabinet_c3_r4_drawer_interior_back_panel_joint" type="fixed">
    <parent link="base_cabinet_c3_r4_drawer_interior_bottom_panel"/>
    <child link="base_cabinet_c3_r4_drawer_interior_back_panel"/>
    <origin xyz="-0.263 0 0.064"/>
  </joint>
  <link name="base_cabinet_c4_door">
    <visual>
      <origin xyz="0 0.198 0"/>
      <geometry>
        <box size="0.016 0.396 0.796"/>
      </geometry>
      <material name="Oak"/>
    </visual>
    <collision>
      <origin xyz="0 0.198 0"/>
      <geometry>
        <box size="0.016 0.396 0.796"/>
      </geometry>
    </collision>
    <inertial>
      <origin xyz="0 0.198 0"/>
      <mass value="3.31"/>
      <inertia ixx="0.21802749333333335" ixy="0" ixz="0" iyy="0.1748430266666667" iyz="0" izz="0.04332569333333334"/>
    </inertial>
  </link>
  <joint name="base_cabinet_c4_door_joint" type="revolute">
    <parent link="bc_frame_base_link"/>
    <child link="base_cabinet_c4_door"/>
    <limit effort="10" lower="0" upper="1.5707963267948966" velocity="1"/>
    <dynamics damping="100" friction="0.1"/>
    <origin xyz="0.308                      0.09999999999999998                      0.46"/>
    <axis xyz="0 0 -1"/>
  </joint>
  <link name="base_cabinet_c4_door_handle_link">
    <visual>
      <origin rpy="0 0 0" xyz="0 0 0"/>
      <geometry>
        <mesh filename="package://clover_lab/meshes/handle.stl"/>
      </geometry>
      <material name="Black"/>
    </visual>
    <collision>
      <origin rpy="0 0 0" xyz="0 0 0"/>
      <geometry>
        <mesh filename="package://clover_lab/meshes/handle.stl"/>
      </geometry>
    </collision>
    <inertial>
      <mass value="0.09"/>
      <origin xyz="0 0 0"/>
      <inertia ixx="0.000211711" ixy="0" ixz="0" iyy="6.3764e-05" iyz="0" izz="0.000274426"/>
    </inertial>
  </link>
  <joint name="base_cabinet_c4_door_handle_joint" type="fixed">
    <parent link="base_cabinet_c4_door"/>
    <child link="base_cabinet_c4_door_handle_link"/>
    <origin rpy="1.5707963267948966 0 0" xyz="0.008 0.35 0.28"/>
  </joint>
  <link name="base_cabinet_c5_door">
    <visual>
      <origin xyz="0 -0.198 0"/>
      <geometry>
        <box size="0.016 0.396 0.796"/>
      </geometry>
      <material name="Oak"/>
    </visual>
    <collision>
      <origin xyz="0 -0.198 0"/>
      <geometry>
        <box size="0.016 0.396 0.796"/>
      </geometry>
    </collision>
    <inertial>
      <origin xyz="0 -0.198 0"/>
      <mass value="3.31"/>
      <inertia ixx="0.21802749333333335" ixy="0" ixz="0" iyy="0.1748430266666667" iyz="0" izz="0.04332569333333334"/>
    </inertial>
  </link>
  <joint name="base_cabinet_c5_door_joint" type="revolute">
    <parent link="bc_frame_base_link"/>
    <child link="base_cabinet_c5_door"/>
    <limit effort="10" lower="0" upper="1.5707963267948966" velocity="1"/>
    <dynamics damping="100" friction="0.1"/>
    <origin xyz="0.308                      0.9                      0.46"/>
    <axis xyz="0 0 1"/>
  </joint>
  <link name="base_cabinet_c5_door_handle_link">
    <visual>
      <origin rpy="0 0 0" xyz="0 0 0"/>
      <geometry>
        <mesh filename="package://clover_lab/meshes/handle.stl"/>
      </geometry>
      <material name="Black"/>
    </visual>
    <collision>
      <origin rpy="0 0 0" xyz="0 0 0"/>
      <geometry>
        <mesh filename="package://clover_lab/meshes/handle.stl"/>
      </geometry>
    </collision>
    <inertial>
      <mass value="0.09"/>
      <origin xyz="0 0 0"/>
      <inertia ixx="0.000211711" ixy="0" ixz="0" iyy="6.3764e-05" iyz="0" izz="0.000274426"/>
    </inertial>
  </link>
  <joint name="base_cabinet_c5_door_handle_joint" type="fixed">
    <parent link="base_cabinet_c5_door"/>
    <child link="base_cabinet_c5_door_handle_link"/>
    <origin rpy="1.5707963267948966 0 0" xyz="0.008 -0.35 0.28"/>
  </joint>
  <link name="wc_frame_back_panel">
    <visual>
      <origin xyz="0 0 0"/>
      <geometry>
        <box size="0.016 1 0.81"/>
      </geometry>
      <material name="White"/>
    </visual>
    <collision>
      <origin xyz="0 0 0"/>
      <geometry>
        <box size="0.016 1 0.81"/>
      </geometry>
    </collision>
    <inertial>
      <origin xyz="0 0 0"/>
      <mass value="20"/>
      <inertia ixx="2.7601666666666667" ixy="0" ixz="0" iyy="1.093926666666667" iyz="0" izz="1.6670933333333335"/>
    </inertial>
  </link>
  <link name="wc_frame_left_side_panel">
    <visual>
      <origin xyz="0 0 0"/>
      <geometry>
        <box size="0.39 0.016 0.81"/>
      </geometry>
      <material name="White"/>
    </visual>
    <collision>
      <origin xyz="0 0 0"/>
      <geometry>
        <box size="0.39 0.016 0.81"/>
      </geometry>
    </collision>
    <inertial>
      <origin xyz="0 0 0"/>
      <mass value="10"/>
      <inertia ixx="0.5469633333333335" ixy="0" ixz="0" iyy="0.6735000000000001" iyz="0" izz="0.12696333333333334"/>
    </inertial>
  </link>
  <joint name="wc_frame_left_side_panel_joint" type="fixed">
    <origin rpy="0 0 0" xyz="0.187                    0.492 0"/>
    <parent link="wc_frame_back_panel"/>
    <child link="wc_frame_left_side_panel"/>
  </joint>
  <link name="wc_frame_right_side_panel">
    <visual>
      <origin xyz="0 0 0"/>
      <geometry>
        <box size="0.39 0.016 0.81"/>
      </geometry>
      <material name="White"/>
    </visual>
    <collision>
      <origin xyz="0 0 0"/>
      <geometry>
        <box size="0.39 0.016 0.81"/>
      </geometry>
    </collision>
    <inertial>
      <origin xyz="0 0 0"/>
      <mass value="10"/>
      <inertia ixx="0.5469633333333335" ixy="0" ixz="0" iyy="0.6735000000000001" iyz="0" izz="0.12696333333333334"/>
    </inertial>
  </link>
  <joint name="wc_frame_right_side_panel_joint" type="fixed">
    <origin rpy="0 0 0" xyz="0.187                    -0.492 0"/>
    <parent link="wc_frame_back_panel"/>
    <child link="wc_frame_right_side_panel"/>
  </joint>
  <link name="wc_frame_top_panel">
    <visual>
      <origin xyz="0 0 0"/>
      <geometry>
        <box size="0.39 1 0.016"/>
      </geometry>
      <material name="White"/>
    </visual>
    <collision>
      <origin xyz="0 0 0"/>
      <geometry>
        <box size="0.39 1 0.016"/>
      </geometry>
    </collision>
    <inertial>
      <origin xyz="0 0 0"/>
      <mass value="20"/>
      <inertia ixx="1.6670933333333335" ixy="0" ixz="0" iyy="0.2539266666666667" iyz="0" izz="1.9201666666666666"/>
    </inertial>
  </link>
  <joint name="wc_frame_top_panel_joint" type="fixed">
    <origin rpy="0 0 0" xyz="0.187 0                    0.397"/>
    <parent link="wc_frame_back_panel"/>
    <child link="wc_frame_top_panel"/>
  </joint>
  <link name="wc_frame_bottom_panel">
    <visual>
      <origin xyz="0 0 0"/>
      <geometry>
        <box size="0.39 1 0.016"/>
      </geometry>
      <material name="White"/>
    </visual>
    <collision>
      <origin xyz="0 0 0"/>
      <geometry>
        <box size="0.39 1 0.016"/>
      </geometry>
    </collision>
    <inertial>
      <origin xyz="0 0 0"/>
      <mass value="20"/>
      <inertia ixx="1.6670933333333335" ixy="0" ixz="0" iyy="0.2539266666666667" iyz="0" izz="1.9201666666666666"/>
    </inertial>
  </link>
  <joint name="wc_frame_bottom_panel_joint" type="fixed">
    <origin rpy="0 0 0" xyz="0.187 0                    -0.397"/>
    <parent link="wc_frame_back_panel"/>
    <child link="wc_frame_bottom_panel"/>
  </joint>
  <link name="wc_frame_c1_v_shelf">
    <visual>
      <origin xyz="0 0 0"/>
      <geometry>
        <box size="0.39 0.04 0.81"/>
      </geometry>
      <material name="White"/>
    </visual>
    <collision>
      <origin xyz="0 0 0"/>
      <geometry>
        <box size="0.39 0.04 0.81"/>
      </geometry>
    </collision>
    <inertial>
      <origin xyz="0 0 0"/>
      <mass value="10"/>
      <inertia ixx="0.5480833333333335" ixy="0" ixz="0" iyy="0.6735000000000001" iyz="0" izz="0.12808333333333333"/>
    </inertial>
  </link>
  <joint name="wc_frame_c1_v_shelf_joint" type="fixed">
    <origin xyz="0.187 0.09999999999999998 0"/>
    <parent link="wc_frame_back_panel"/>
    <child link="wc_frame_c1_v_shelf"/>
  </joint>
  <link name="wc_frame_h1_shelf">
    <visual>
      <origin xyz="0 0 0"/>
      <geometry>
        <box size="0.39 1 0.02"/>
      </geometry>
      <material name="White"/>
    </visual>
    <collision>
      <origin xyz="0 0 0"/>
      <geometry>
        <box size="0.39 1 0.02"/>
      </geometry>
    </collision>
    <inertial>
      <origin xyz="0 0 0"/>
      <mass value="10"/>
      <inertia ixx="0.8336666666666667" ixy="0" ixz="0" iyy="0.12708333333333335" iyz="0" izz="0.9600833333333333"/>
    </inertial>
  </link>
  <joint name="wc_frame_h1_shelf_joint" type="fixed">
    <origin xyz="0.187 0 0.065"/>
    <parent link="wc_frame_back_panel"/>
    <child link="wc_frame_h1_shelf"/>
  </joint>
  <link name="wc_frame_h2_shelf">
    <visual>
      <origin xyz="0 0 0"/>
      <geometry>
        <box size="0.39 1 0.02"/>
      </geometry>
      <material name="White"/>
    </visual>
    <collision>
      <origin xyz="0 0 0"/>
      <geometry>
        <box size="0.39 1 0.02"/>
      </geometry>
    </collision>
    <inertial>
      <origin xyz="0 0 0"/>
      <mass value="10"/>
      <inertia ixx="0.8336666666666667" ixy="0" ixz="0" iyy="0.12708333333333335" iyz="0" izz="0.9600833333333333"/>
    </inertial>
  </link>
  <joint name="wc_frame_h2_shelf_joint" type="fixed">
    <origin xyz="0.187 0 -0.135"/>
    <parent link="wc_frame_back_panel"/>
    <child link="wc_frame_h2_shelf"/>
  </joint>
  <link name="wall_cabinet_c1_door">
    <visual>
      <origin xyz="0 0.298 0"/>
      <geometry>
        <box size="0.016 0.596 0.806"/>
      </geometry>
      <material name="Oak"/>
    </visual>
    <collision>
      <origin xyz="0 0.298 0"/>
      <geometry>
        <box size="0.016 0.596 0.806"/>
      </geometry>
    </collision>
    <inertial>
      <origin xyz="0 0.298 0"/>
      <mass value="3.31"/>
      <inertia ixx="0.2771716766666667" ixy="0" ixz="0" iyy="0.1792618766666667" iyz="0" izz="0.09805102666666665"/>
    </inertial>
  </link>
  <joint name="wall_cabinet_c1_door_joint" type="revolute">
    <parent link="wc_frame_back_panel"/>
    <child link="wall_cabinet_c1_door"/>
    <limit effort="10" lower="0" upper="1.5707963267948966" velocity="1"/>
    <dynamics damping="100" friction="0.1"/>
    <origin xyz="0.39 -0.5 0"/>
    <axis xyz="0 0 -1"/>
  </joint>
  <link name="wall_cabinet_c1_door_handle_link">
    <visual>
      <origin rpy="0 0 0" xyz="0 0 0"/>
      <geometry>
        <mesh filename="package://clover_lab/meshes/handle.stl"/>
      </geometry>
      <material name="Black"/>
    </visual>
    <collision>
      <origin rpy="0 0 0" xyz="0 0 0"/>
      <geometry>
        <mesh filename="package://clover_lab/meshes/handle.stl"/>
      </geometry>
    </collision>
    <inertial>
      <mass value="0.09"/>
      <origin xyz="0 0 0"/>
      <inertia ixx="0.000211711" ixy="0" ixz="0" iyy="6.3764e-05" iyz="0" izz="0.000274426"/>
    </inertial>
  </link>
  <joint name="wall_cabinet_c1_door_handle_joint" type="fixed">
    <parent link="wall_cabinet_c1_door"/>
    <child link="wall_cabinet_c1_door_handle_link"/>
    <origin rpy="0 0 0" xyz="0.008 0.48 -0.35"/>
  </joint>
  <link name="wall_cabinet_c2_door">
    <visual>
      <origin xyz="0 -0.198 0"/>
      <geometry>
        <box size="0.016 0.396 0.806"/>
      </geometry>
      <material name="Oak"/>
    </visual>
    <collision>
      <origin xyz="0 -0.198 0"/>
      <geometry>
        <box size="0.016 0.396 0.806"/>
      </geometry>
    </collision>
    <inertial>
      <origin xyz="0 -0.198 0"/>
      <mass value="3.31"/>
      <inertia ixx="0.22244634333333338" ixy="0" ixz="0" iyy="0.1792618766666667" iyz="0" izz="0.04332569333333334"/>
    </inertial>
  </link>
  <joint name="wall_cabinet_c2_door_joint" type="revolute">
    <parent link="wc_frame_back_panel"/>
    <child link="wall_cabinet_c2_door"/>
    <limit effort="10" lower="0" upper="1.5707963267948966" velocity="1"/>
    <dynamics damping="100" friction="0.1"/>
    <origin xyz="0.39 0.5 0"/>
    <axis xyz="0 0 1"/>
  </joint>
  <link name="wall_cabinet_c2_door_handle_link">
    <visual>
      <origin rpy="0 0 0" xyz="0 0 0"/>
      <geometry>
        <mesh filename="package://clover_lab/meshes/handle.stl"/>
      </geometry>
      <material name="Black"/>
    </visual>
    <collision>
      <origin rpy="0 0 0" xyz="0 0 0"/>
      <geometry>
        <mesh filename="package://clover_lab/meshes/handle.stl"/>
      </geometry>
    </collision>
    <inertial>
      <mass value="0.09"/>
      <origin xyz="0 0 0"/>
      <inertia ixx="0.000211711" ixy="0" ixz="0" iyy="6.3764e-05" iyz="0" izz="0.000274426"/>
    </inertial>
  </link>
  <joint name="wall_cabinet_c2_door_handle_joint" type="fixed">
    <parent link="wall_cabinet_c2_door"/>
    <child link="wall_cabinet_c2_door_handle_link"/>
    <origin rpy="0 0 0" xyz="0.008 -0.28 -0.35"/>
  </joint>
  <link name="world"/>
  <joint name="base_cabinet_reference" type="fixed">
    <origin rpy="0 0 0" xyz="-2.7 0.2 0.06"/>
    <parent link="world"/>
    <child link="bc_frame_base_link"/>
  </joint>
  <joint name="wall_cabinet_reference" type="fixed">
    <origin rpy="0 0 0" xyz="-3.0 0.4 2.045"/>
    <parent link="world"/>
    <child link="wc_frame_back_panel"/>
  </joint>
  <link name="lab_left_wall">
    <visual>
      <origin xyz="0 0 0"/>
      <geometry>
        <box size="6 0.1 2.7"/>
      </geometry>
      <material name="LightGreen"/>
    </visual>
    <collision>
      <origin xyz="0 0 0"/>
      <geometry>
        <box size="6 0.1 2.7"/>
      </geometry>
    </collision>
    <inertial>
      <origin xyz="0 0 0"/>
      <mass value="100"/>
      <inertia ixx="60.83333333333334" ixy="0" ixz="0" iyy="360.75" iyz="0" izz="300.0833333333333"/>
    </inertial>
  </link>
  <joint name="left_wall_joint" type="fixed">
    <origin rpy="0 0 0" xyz="0 1.6500000000000001 1.35"/>
    <parent link="world"/>
    <child link="lab_left_wall"/>
  </joint>
  <link name="lab_back_wall">
    <visual>
      <origin xyz="0 0 0"/>
      <geometry>
        <box size="0.1 3.2 2.7"/>
      </geometry>
      <material name="LightGreen"/>
    </visual>
    <collision>
      <origin xyz="0 0 0"/>
      <geometry>
        <box size="0.1 3.2 2.7"/>
      </geometry>
    </collision>
    <inertial>
      <origin xyz="0 0 0"/>
      <mass value="100"/>
      <inertia ixx="146.08333333333334" ixy="0" ixz="0" iyy="60.83333333333334" iyz="0" izz="85.41666666666669"/>
    </inertial>
  </link>
  <joint name="back_wall_joint" type="fixed">
    <origin rpy="0 0 0" xyz="-3.05 0 1.35"/>
    <parent link="world"/>
    <child link="lab_back_wall"/>
  </joint>
</robot>
